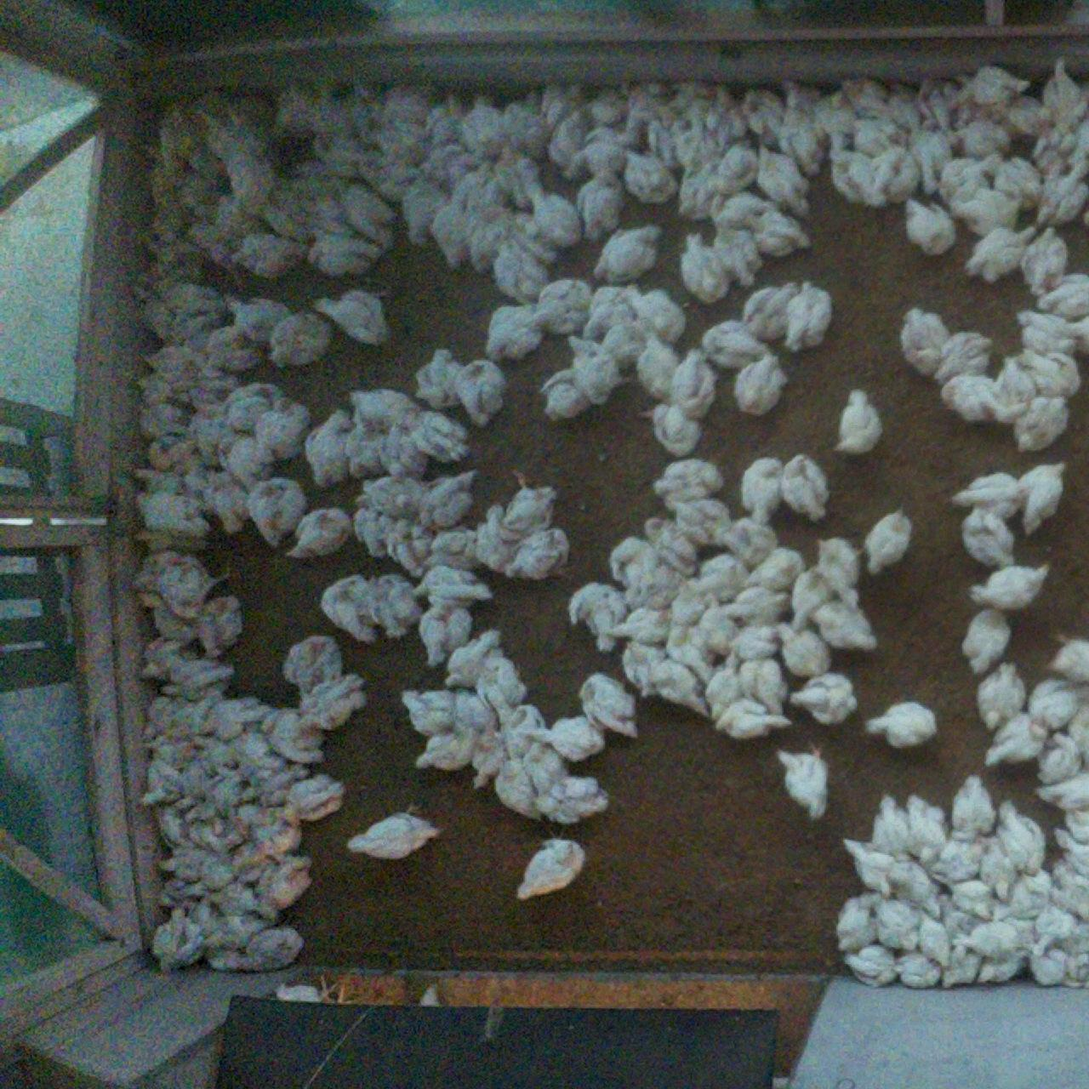chicken: (121, 554, 233, 622), (205, 108, 275, 196), (348, 801, 445, 863), (306, 278, 393, 347), (562, 573, 625, 656), (515, 837, 594, 903), (575, 667, 647, 739), (864, 693, 944, 757), (145, 902, 209, 982), (771, 738, 833, 820), (134, 486, 212, 551), (451, 348, 508, 434), (566, 328, 633, 401), (945, 462, 1022, 524), (316, 570, 377, 648), (496, 524, 571, 586), (252, 471, 311, 549), (785, 665, 864, 723), (992, 800, 1053, 874), (965, 226, 1040, 286), (300, 669, 370, 733), (966, 560, 1059, 608), (975, 709, 1042, 775), (278, 767, 348, 830), (595, 220, 666, 282), (1021, 457, 1074, 540), (973, 658, 1027, 739), (253, 853, 315, 923), (276, 630, 348, 690), (782, 277, 834, 360), (731, 347, 789, 421), (301, 401, 349, 490), (214, 378, 292, 432), (669, 340, 720, 422), (532, 713, 608, 768), (430, 180, 474, 275), (191, 588, 249, 660), (500, 460, 557, 533), (932, 326, 1000, 387), (645, 514, 707, 580), (1004, 394, 1071, 455), (402, 405, 472, 463), (813, 594, 882, 652), (896, 299, 946, 379), (527, 176, 581, 250), (409, 562, 494, 609), (422, 466, 486, 528), (335, 179, 397, 243), (482, 297, 543, 362), (290, 503, 351, 568), (415, 600, 475, 666), (407, 340, 462, 412), (707, 693, 791, 740), (652, 453, 725, 507), (371, 569, 422, 646), (828, 384, 881, 458), (256, 397, 309, 471), (225, 227, 300, 279), (532, 773, 618, 818), (304, 229, 388, 275), (888, 855, 950, 917), (899, 193, 959, 257), (950, 177, 1021, 231), (1014, 306, 1089, 357), (468, 195, 515, 276), (697, 314, 770, 366), (779, 103, 827, 182), (961, 608, 1014, 679), (582, 165, 629, 245), (863, 505, 915, 577), (775, 618, 838, 677), (961, 504, 1018, 569), (155, 696, 227, 747), (268, 311, 331, 369), (677, 227, 725, 303), (262, 702, 326, 759), (709, 217, 760, 288), (779, 450, 832, 518), (757, 142, 810, 210), (444, 623, 504, 683), (1023, 220, 1072, 293), (235, 927, 305, 978), (1035, 159, 1089, 225), (1039, 56, 1089, 127), (815, 534, 862, 609), (737, 454, 785, 527), (492, 754, 544, 821), (743, 279, 801, 339), (651, 656, 708, 717), (992, 866, 1055, 921), (741, 204, 808, 255), (361, 461, 422, 517), (640, 398, 701, 454), (841, 940, 904, 994), (826, 141, 877, 207), (1025, 674, 1081, 734), (1033, 266, 1089, 326), (184, 385, 227, 463), (492, 231, 542, 298), (904, 70, 955, 135), (945, 106, 1011, 156), (841, 834, 896, 894), (622, 284, 688, 334), (699, 650, 740, 730), (400, 679, 458, 735), (246, 802, 301, 861), (401, 166, 443, 243), (1018, 344, 1079, 397), (637, 327, 680, 402), (902, 792, 950, 859), (606, 597, 677, 642), (540, 366, 595, 424), (540, 277, 594, 336), (708, 137, 757, 202), (950, 772, 998, 838), (358, 116, 420, 167), (158, 661, 235, 702), (870, 784, 914, 855), (906, 113, 946, 191), (868, 893, 920, 953), (211, 286, 285, 328), (377, 420, 429, 479), (206, 917, 258, 976), (1029, 121, 1079, 182), (727, 498, 777, 559), (939, 370, 1001, 419), (494, 141, 543, 203), (615, 147, 669, 203), (164, 94, 207, 164), (986, 153, 1045, 204), (132, 634, 194, 682), (911, 901, 956, 967), (242, 759, 305, 806), (200, 882, 274, 922), (684, 552, 748, 598), (208, 691, 272, 737), (185, 775, 246, 823), (827, 894, 880, 949), (665, 621, 717, 677), (344, 383, 415, 424), (412, 730, 478, 774), (217, 428, 267, 486), (574, 127, 637, 173), (473, 498, 512, 572), (988, 348, 1028, 420), (1031, 724, 1084, 778), (705, 82, 747, 150), (207, 472, 252, 535), (202, 327, 261, 375), (956, 922, 1025, 963), (338, 420, 385, 480), (814, 92, 855, 160), (131, 460, 202, 499), (421, 526, 482, 571), (610, 532, 654, 594), (139, 429, 207, 469), (672, 493, 731, 539), (733, 582, 792, 628), (746, 543, 809, 586), (157, 840, 220, 883), (832, 68, 887, 117), (978, 833, 1017, 902), (674, 167, 722, 223), (477, 652, 524, 709), (872, 140, 915, 202), (142, 121, 180, 191), (1029, 764, 1089, 808), (741, 658, 787, 715), (580, 291, 630, 343), (1041, 627, 1089, 681), (930, 835, 984, 883), (471, 720, 507, 792), (617, 636, 660, 696), (137, 591, 194, 636), (125, 396, 186, 438), (791, 564, 829, 631), (466, 92, 506, 155), (952, 61, 1028, 94), (349, 496, 387, 562), (458, 159, 509, 208), (1030, 903, 1073, 961), (140, 337, 200, 378), (676, 105, 716, 166), (939, 148, 992, 194), (370, 80, 424, 125), (261, 180, 311, 228), (382, 518, 429, 569), (194, 190, 258, 227), (127, 283, 169, 339), (146, 197, 193, 247), (890, 947, 941, 993), (1049, 860, 1089, 918), (422, 85, 462, 143), (522, 737, 564, 792), (692, 606, 739, 655), (154, 280, 221, 314), (626, 78, 673, 126), (304, 84, 355, 128), (135, 760, 178, 812), (506, 85, 543, 145), (740, 84, 781, 138), (547, 102, 582, 165), (540, 78, 584, 128), (947, 874, 998, 917), (420, 141, 467, 187), (1050, 825, 1089, 880), (132, 368, 189, 405), (510, 701, 549, 755), (269, 84, 311, 134), (995, 88, 1043, 131), (602, 323, 647, 368), (974, 948, 1020, 992), (937, 946, 985, 988), (295, 156, 334, 207), (671, 589, 720, 629), (311, 130, 355, 174), (1026, 948, 1071, 991), (452, 687, 497, 730), (220, 841, 265, 884), (848, 117, 904, 151), (727, 617, 779, 653), (138, 691, 178, 737), (138, 723, 191, 757), (585, 85, 626, 128), (641, 109, 678, 156), (180, 764, 223, 804), (189, 816, 248, 845), (353, 150, 395, 190), (168, 312, 214, 348), (937, 891, 975, 934), (147, 801, 185, 842), (191, 220, 228, 261), (645, 562, 683, 601), (879, 81, 915, 122), (234, 729, 269, 770), (193, 734, 237, 766), (1069, 696, 1089, 757), (779, 78, 818, 107), (673, 76, 703, 111), (1060, 805, 1089, 840), (1068, 950, 1089, 988), (1064, 920, 1089, 951)
